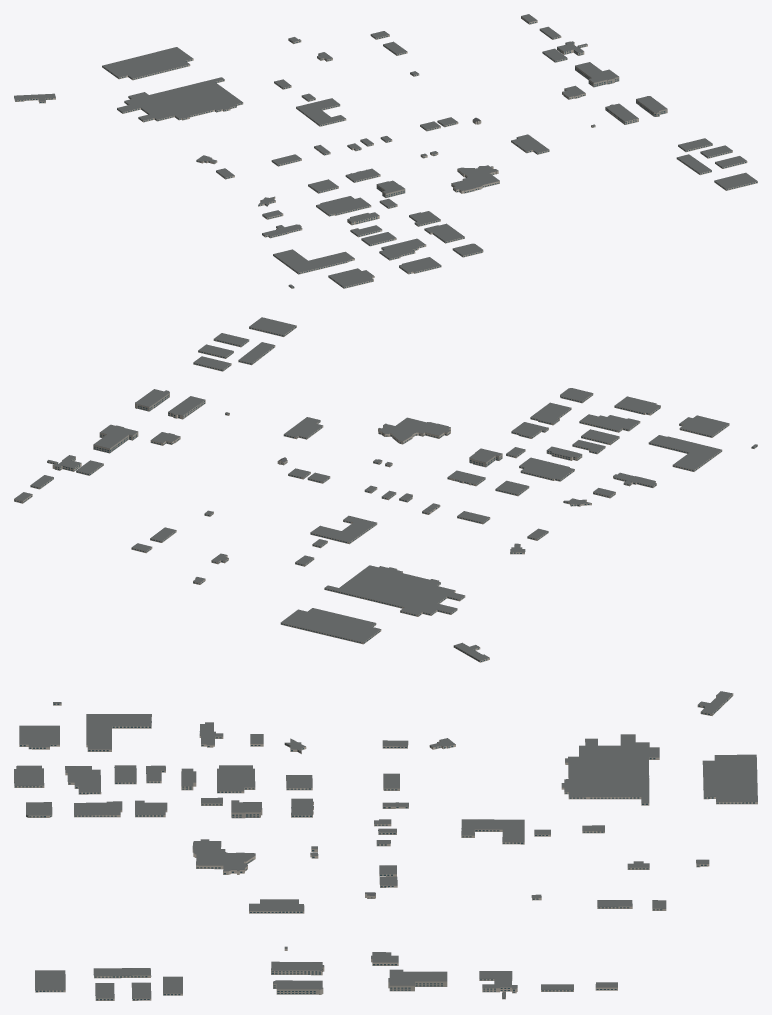
The picture shows the model from 3 angles, top to bottom: view 1: azimuth 30°, elevation 25°; view 2: azimuth 150°, elevation 25°; view 3: azimuth 270°, elevation 25°; orthographic projection. The views are drawn at different scales.
Visible parts, largest first — view 1: Buildings (1, 4) Roof membrane, Buildings (1, 4) Masonry brick, Buildings (1, 4) Architectural tinted glass, Buildings (1, 4) Architectural concrete; view 2: Buildings (1, 4) Roof membrane, Buildings (1, 4) Masonry brick, Buildings (1, 4) Architectural tinted glass, Buildings (1, 4) Architectural concrete; view 3: Buildings (1, 4) Roof membrane, Buildings (1, 4) Masonry brick, Buildings (1, 4) Architectural tinted glass, Buildings (1, 4) Metal coping, Buildings (1, 4) Architectural concrete.
Boxes of the visible parts, <box> form: Buildings (1, 4) Roof membrane: <box>14,14,757,287</box>; Buildings (1, 4) Masonry brick: <box>14,16,757,288</box>; Buildings (1, 4) Architectural tinted glass: <box>14,17,757,288</box>; Buildings (1, 4) Architectural concrete: <box>376,66,667,197</box>; Buildings (1, 4) Roof membrane: <box>14,317,757,660</box>; Buildings (1, 4) Masonry brick: <box>14,326,757,662</box>; Buildings (1, 4) Architectural tinted glass: <box>14,327,756,661</box>; Buildings (1, 4) Architectural concrete: <box>93,393,502,467</box>; Buildings (1, 4) Roof membrane: <box>14,691,757,998</box>; Buildings (1, 4) Masonry brick: <box>14,694,757,1000</box>; Buildings (1, 4) Architectural tinted glass: <box>14,695,754,1000</box>; Buildings (1, 4) Metal coping: <box>14,691,756,998</box>; Buildings (1, 4) Architectural concrete: <box>231,809,447,994</box>.
Size of the model in its own units: 1000 by 11.59 by 1029.
